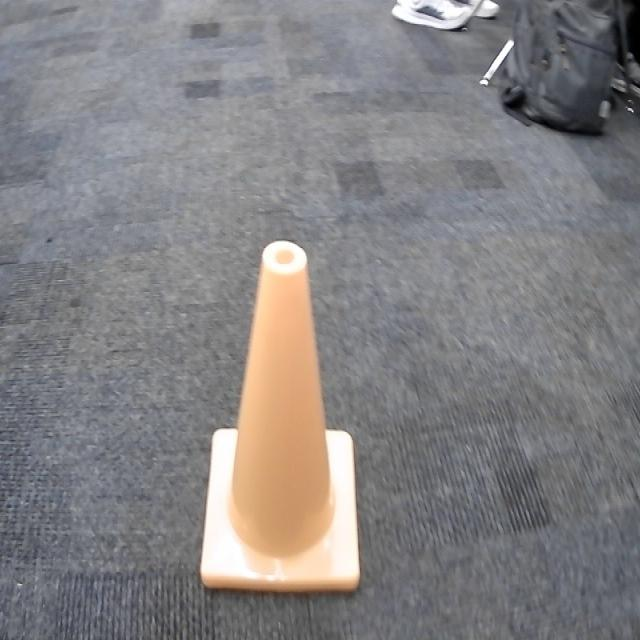cone: (198, 240, 363, 597)
